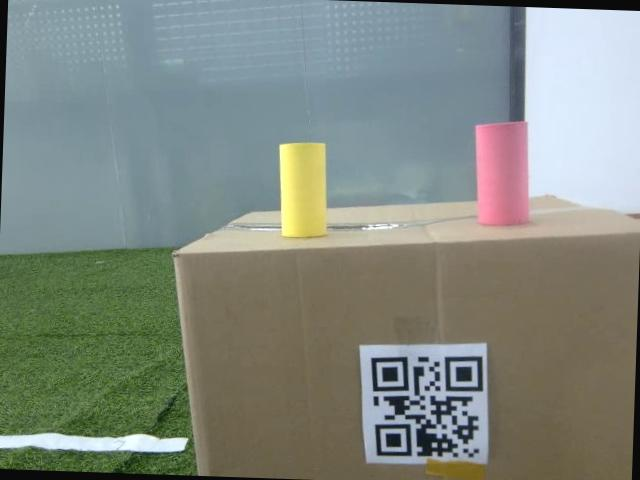red_cylinder: (468, 120, 532, 226)
yellow_cylinder: (274, 139, 333, 240)
